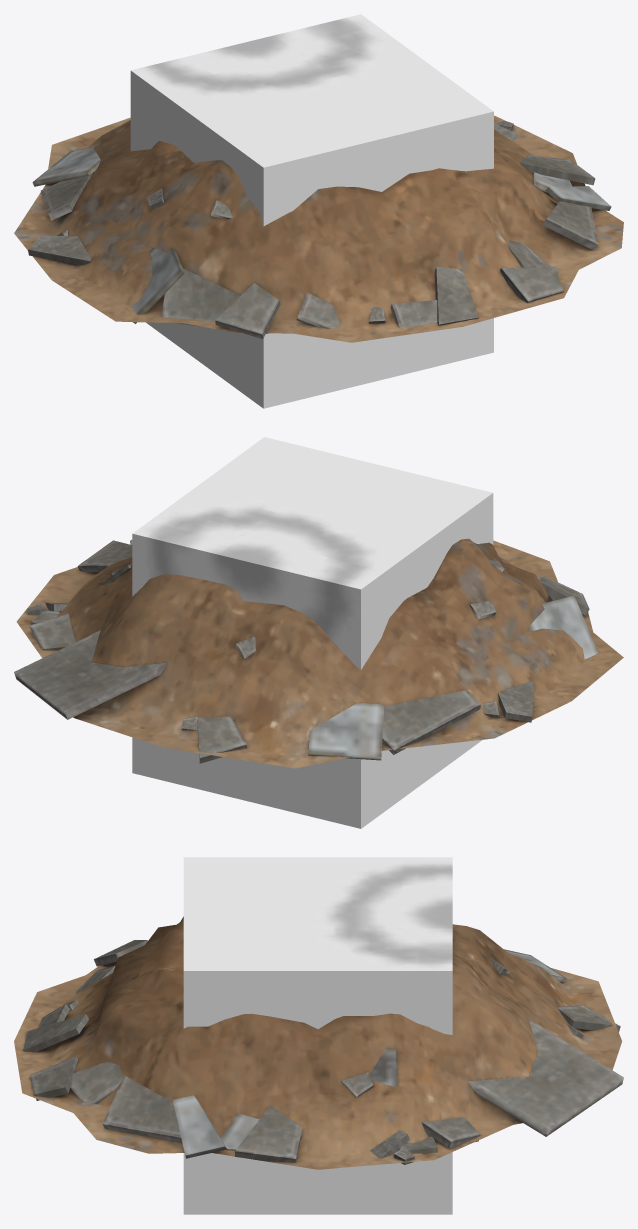
Rendered from field_item403.glb.
The picture shows the model from 3 angles, top to bottom: view 1: azimuth 30°, elevation 25°; view 2: azimuth 150°, elevation 25°; view 3: azimuth 270°, elevation 25°; orthographic projection.
Parts seen in each view (by area): view 1: um_field_item403_model_field_item403_modelShape; view 2: um_field_item403_model_field_item403_modelShape; view 3: um_field_item403_model_field_item403_modelShape.
Boxes of the visible parts, x1,y1,x2,y2 form: um_field_item403_model_field_item403_modelShape: (14,14,623,408); um_field_item403_model_field_item403_modelShape: (14,437,623,828); um_field_item403_model_field_item403_modelShape: (14,857,623,1214).
Bounding box in the file's own units: 2.26 × 1 × 2.27.
4 materials, 4 textured.
